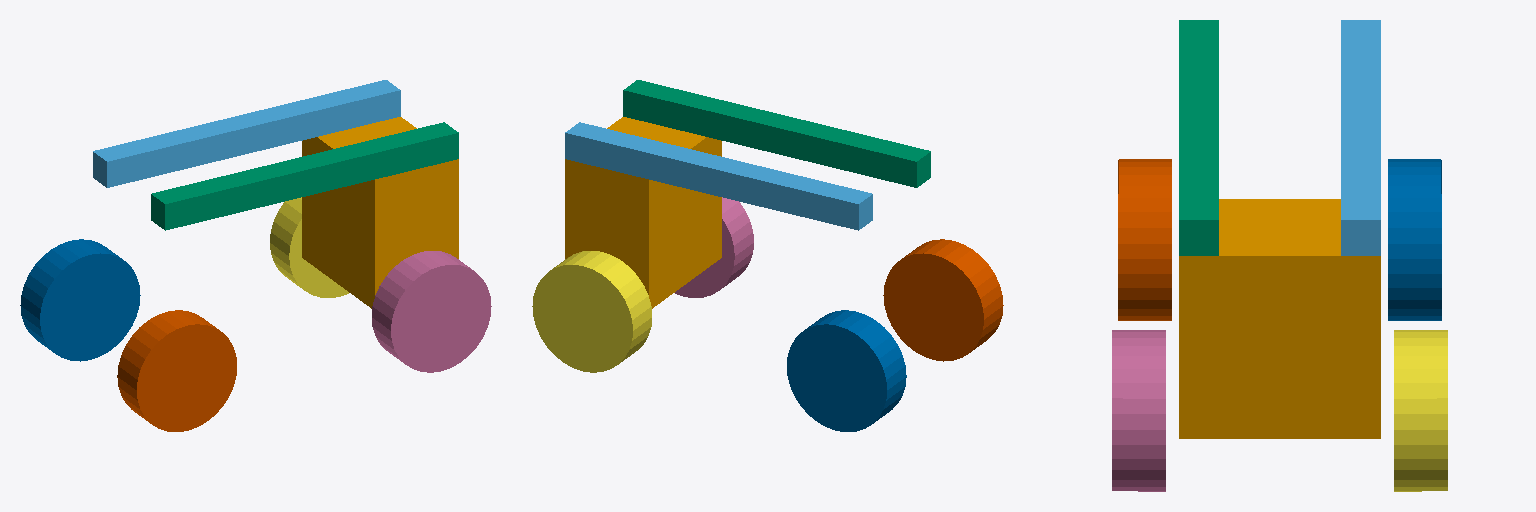
robot.urdf — vehicle:
<?xml version="1.0" ?>
<!-- =================================================================================== -->
<!-- |    This document was autogenerated by xacro from models/vehicle.urdf.xacro      | -->
<!-- |    EDITING THIS FILE BY HAND IS NOT RECOMMENDED                                 | -->
<!-- =================================================================================== -->
<robot name="vehicle" xmlns:xacro="http://www.ros.org/wiki/xacro">
  <link name="body">
    <inertial>
      <mass value="2000.0"/>
      <inertia ixx="750.0" ixy="0" ixz="0" iyy="541.6666666666666" iyz="0" izz="541.6666666666666"/>
    </inertial>
    <visual>
      <geometry>
        <box size="1.0 1.5 1.5"/>
      </geometry>
    </visual>
    <collision>
      <geometry>
        <box size="1.0 1.5 1.5"/>
      </geometry>
    </collision>
  </link>
  <link name="beam_left">
    <inertial>
      <mass value="200.0"/>
      <inertia ixx="2.9999999999999996" ixy="0" ixz="0" iyy="205.66666666666663" iyz="0" izz="205.66666666666663"/>
    </inertial>
    <visual>
      <geometry>
        <box size="3.5 0.3 0.3"/>
      </geometry>
    </visual>
    <collision>
      <geometry>
        <box size="3.5 0.3 0.3"/>
      </geometry>
    </collision>
  </link>
  <link name="beam_right">
    <inertial>
      <mass value="200.0"/>
      <inertia ixx="2.9999999999999996" ixy="0" ixz="0" iyy="205.66666666666663" iyz="0" izz="205.66666666666663"/>
    </inertial>
    <visual>
      <geometry>
        <box size="3.5 0.3 0.3"/>
      </geometry>
    </visual>
    <collision>
      <geometry>
        <box size="3.5 0.3 0.3"/>
      </geometry>
    </collision>
  </link>
  <link name="wheel_fl">
    <inertial>
      <mass value="200"/>
      <inertia ixx="20.666666666666668" ixy="0" ixz="0" iyy="20.666666666666668" iyz="0" izz="36.0"/>
    </inertial>
    <visual>
      <geometry>
        <cylinder length="0.4" radius="0.6"/>
      </geometry>
      <origin rpy="-1.57 0 0" xyz="0 0 0"/>
    </visual>
    <collision>
      <geometry>
        <cylinder length="0.4" radius="0.6"/>
      </geometry>
      <origin rpy="-1.57 0 0" xyz="0 0 0"/>
    </collision>
    <material name="tire">
      <color rgba="0.2392 0.2157 0.1686 1"/>
    </material>
    <contact>
      <!-- ground plane has friction value of 1, so use 
        friction value for tire-groundtype that is found online. -->
      <lateral_friction value="0.8"/>
    </contact>
  </link>
  <link name="wheel_rl">
    <inertial>
      <mass value="200"/>
      <inertia ixx="20.666666666666668" ixy="0" ixz="0" iyy="20.666666666666668" iyz="0" izz="36.0"/>
    </inertial>
    <visual>
      <geometry>
        <cylinder length="0.4" radius="0.6"/>
      </geometry>
      <origin rpy="-1.57 0 0" xyz="0 0 0"/>
    </visual>
    <collision>
      <geometry>
        <cylinder length="0.4" radius="0.6"/>
      </geometry>
      <origin rpy="-1.57 0 0" xyz="0 0 0"/>
    </collision>
    <material name="tire">
      <color rgba="0.2392 0.2157 0.1686 1"/>
    </material>
    <contact>
      <!-- ground plane has friction value of 1, so use 
        friction value for tire-groundtype that is found online. -->
      <lateral_friction value="0.8"/>
    </contact>
  </link>
  <link name="wheel_rr">
    <inertial>
      <mass value="200"/>
      <inertia ixx="20.666666666666668" ixy="0" ixz="0" iyy="20.666666666666668" iyz="0" izz="36.0"/>
    </inertial>
    <visual>
      <geometry>
        <cylinder length="0.4" radius="0.6"/>
      </geometry>
      <origin rpy="1.57 0 0" xyz="0 0 0"/>
    </visual>
    <collision>
      <geometry>
        <cylinder length="0.4" radius="0.6"/>
      </geometry>
      <origin rpy="1.57 0 0" xyz="0 0 0"/>
    </collision>
    <material name="tire">
      <color rgba="0.2392 0.2157 0.1686 1"/>
    </material>
    <contact>
      <!-- ground plane has friction value of 1, so use 
        friction value for tire-groundtype that is found online. -->
      <lateral_friction value="0.8"/>
    </contact>
  </link>
  <link name="wheel_fr">
    <inertial>
      <mass value="200"/>
      <inertia ixx="20.666666666666668" ixy="0" ixz="0" iyy="20.666666666666668" iyz="0" izz="36.0"/>
    </inertial>
    <visual>
      <geometry>
        <cylinder length="0.4" radius="0.6"/>
      </geometry>
      <origin rpy="1.57 0 0" xyz="0 0 0"/>
    </visual>
    <collision>
      <geometry>
        <cylinder length="0.4" radius="0.6"/>
      </geometry>
      <origin rpy="1.57 0 0" xyz="0 0 0"/>
    </collision>
    <material name="tire">
      <color rgba="0.2392 0.2157 0.1686 1"/>
    </material>
    <contact>
      <!-- ground plane has friction value of 1, so use 
        friction value for tire-groundtype that is found online. -->
      <lateral_friction value="0.8"/>
    </contact>
  </link>
  <!-- Beam joints -->
  <joint name="body_to_beam_left" type="fixed">
    <parent link="body"/>
    <child link="beam_left"/>
    <origin xyz="-1.25 0.6 0.9"/>
  </joint>
  <joint name="body_to_beam_right" type="fixed">
    <parent link="body"/>
    <child link="beam_right"/>
    <origin xyz="-1.25 -0.6 0.9"/>
  </joint>
  <joint name="body_to_wheel_fl" type="continuous">
    <parent link="body"/>
    <child link="wheel_fl"/>
    <origin xyz="0 1.05 -0.75"/>
    <axis xyz="0 1 0"/>
    <lateral_friction value="0.8"/>
  </joint>
  <joint name="body_to_wheel_rl" type="continuous">
    <parent link="beam_left"/>
    <child link="wheel_rl"/>
    <origin xyz="-1.75 0.4 -1.65"/>
    <axis xyz="0 1 0"/>
  </joint>
  <joint name="body_to_wheel_rr" type="continuous">
    <parent link="beam_right"/>
    <child link="wheel_rr"/>
    <origin xyz="-1.75 -0.4 -1.65"/>
    <axis xyz="0 1 0"/>
  </joint>
  <joint name="body_to_wheel_fr" type="continuous">
    <parent link="body"/>
    <child link="wheel_fr"/>
    <origin xyz="0 -1.05 -0.75"/>
    <axis xyz="0 1 0"/>
  </joint>
</robot>

--- Facts derived from the render (not from the file) ---
Views: 3 orthographic renders of the robot side by side, from view 1: azimuth 30°, elevation 25°; view 2: azimuth 150°, elevation 25°; view 3: azimuth 270°, elevation 25°.
Robot: vehicle — 7 links, 6 joints (4 continuous, 2 fixed); root link body; default pose: all joints at 0.
Visible links, largest first — view 1: body, beam_left, beam_right, wheel_fr, wheel_rl, wheel_rr, wheel_fl; view 2: body, beam_right, beam_left, wheel_fl, wheel_rl, wheel_rr, wheel_fr; view 3: body, beam_left, beam_right, wheel_rl, wheel_rr, wheel_fl, wheel_fr.
Boxes of the visible links, x1=… form: body: x1=302, y1=117, x2=458, y2=308; beam_left: x1=93, y1=80, x2=400, y2=187; beam_right: x1=151, y1=122, x2=458, y2=230; wheel_fr: x1=372, y1=251, x2=491, y2=372; wheel_rl: x1=20, y1=239, x2=140, y2=361; wheel_rr: x1=117, y1=310, x2=236, y2=431; wheel_fl: x1=270, y1=197, x2=348, y2=297; body: x1=565, y1=117, x2=721, y2=308; beam_right: x1=623, y1=80, x2=930, y2=187; beam_left: x1=565, y1=122, x2=872, y2=230; wheel_fl: x1=532, y1=251, x2=651, y2=372; wheel_rl: x1=787, y1=310, x2=906, y2=431; wheel_rr: x1=883, y1=239, x2=1003, y2=361; wheel_fr: x1=675, y1=197, x2=753, y2=297; body: x1=1179, y1=199, x2=1380, y2=438; beam_left: x1=1341, y1=20, x2=1380, y2=255; beam_right: x1=1179, y1=20, x2=1218, y2=255; wheel_rl: x1=1388, y1=159, x2=1441, y2=320; wheel_rr: x1=1118, y1=159, x2=1171, y2=320; wheel_fl: x1=1394, y1=330, x2=1447, y2=491; wheel_fr: x1=1112, y1=330, x2=1165, y2=491.
Size in the robot's own frame: 4.2 by 2.5 by 2.4 metres.
Geometry: primitives only (box / cylinder / sphere), no mesh files.